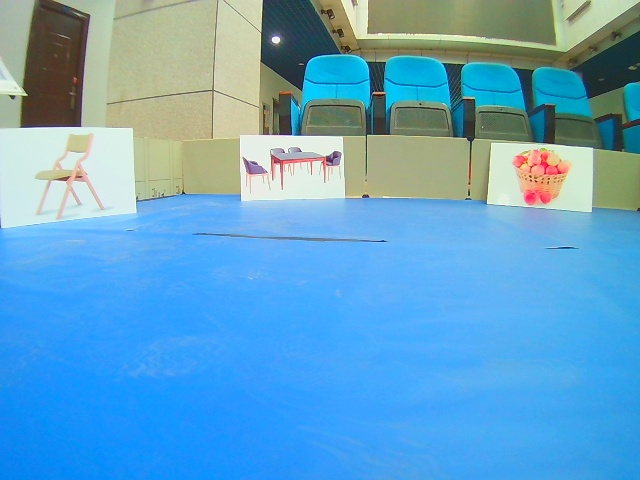food: (486, 142, 595, 215)
table: (3, 126, 136, 229), (238, 134, 349, 203)
